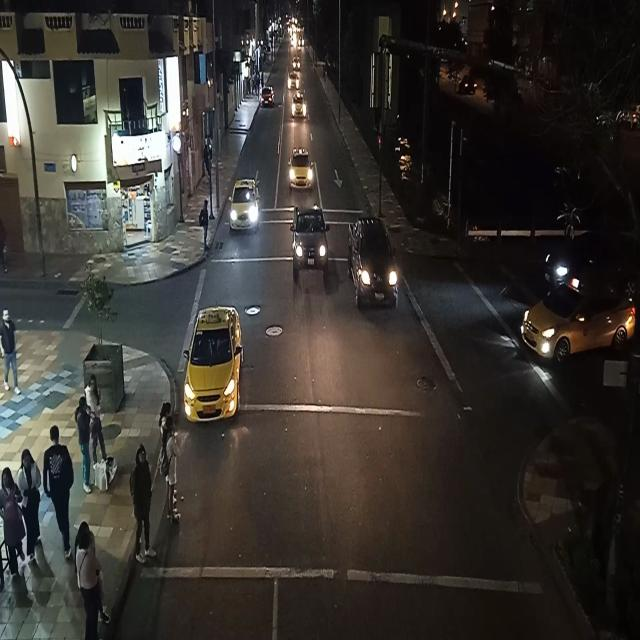CMT: (348, 219, 396, 308), (290, 203, 326, 275)
SED: (523, 281, 633, 356), (185, 308, 244, 421), (232, 182, 260, 232), (288, 150, 312, 189)
